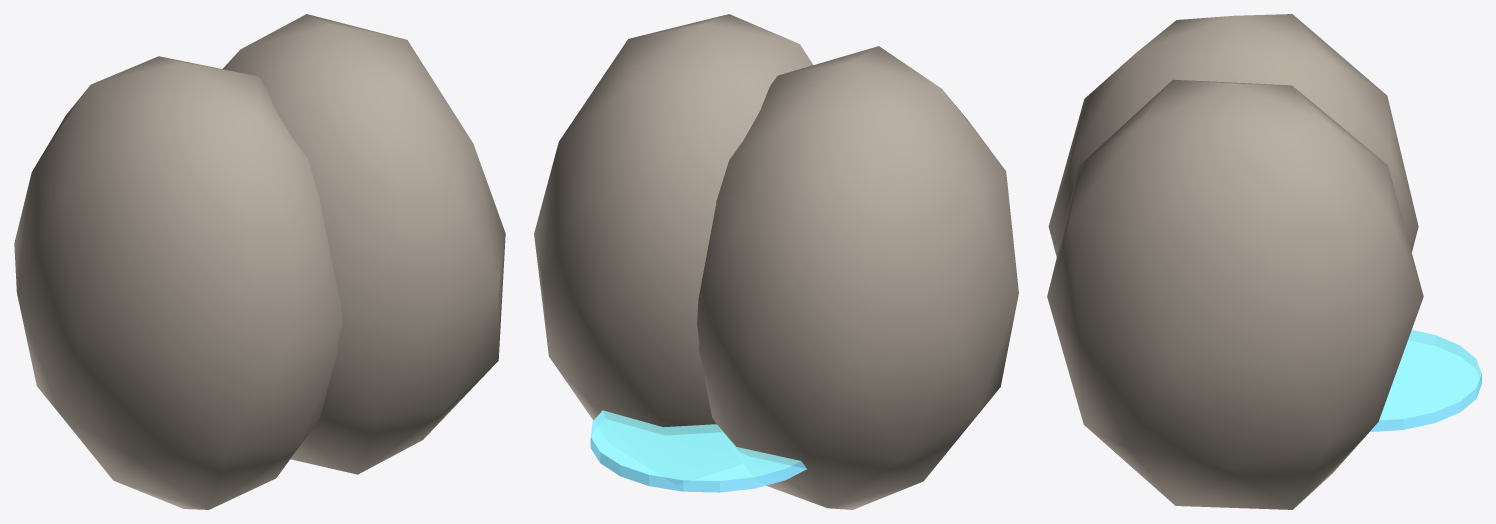
File: split_rock.glb
3 views of the same model, side by side, from view 1: azimuth 30°, elevation 25°; view 2: azimuth 150°, elevation 25°; view 3: azimuth 270°, elevation 25° (orthographic). The views are drawn at different scales.
Visible parts, largest first — view 1: Boulder, Boulder.001; view 2: Boulder, Boulder.001, Pool; view 3: Boulder.001, Boulder, Pool.
Boxes of the visible parts, box(x1,y1,x2,y2) form: Boulder: box(14, 56, 342, 509); Boulder.001: box(223, 14, 505, 474); Boulder: box(697, 46, 1018, 509); Boulder.001: box(534, 14, 813, 435); Pool: box(590, 410, 806, 492); Boulder.001: box(1047, 79, 1423, 509); Boulder: box(1048, 14, 1418, 256); Pool: box(1370, 330, 1481, 431).
Bounding box in the file's own units: 3.16 × 3.16 × 2.89.
